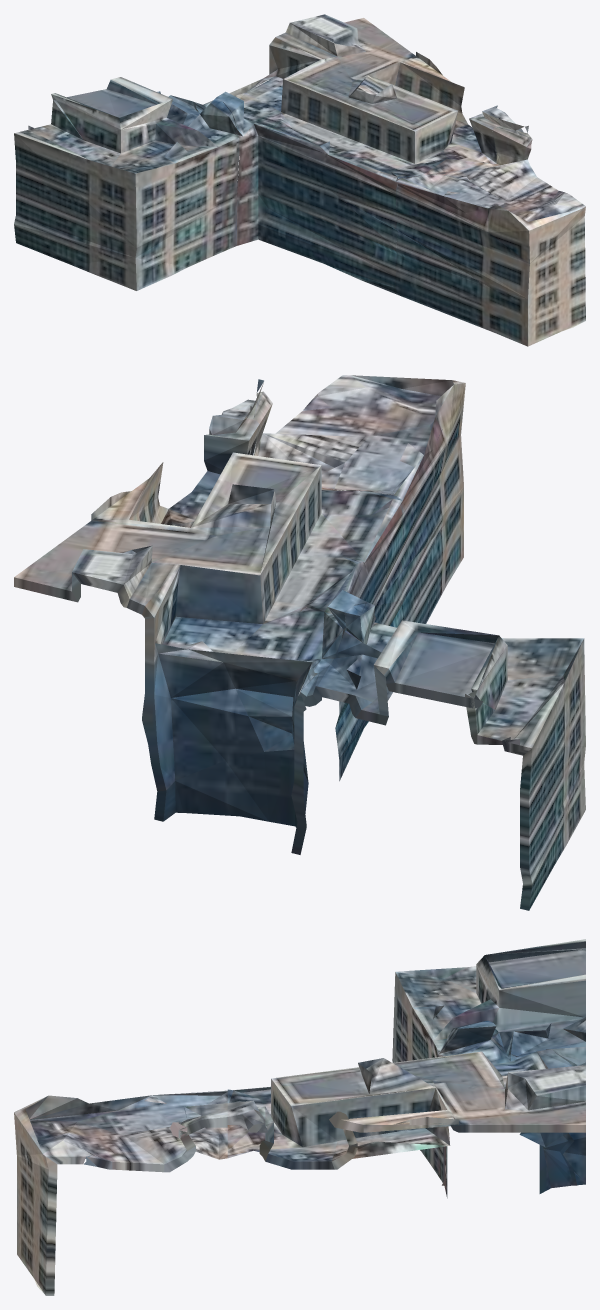
The model's file is chunk_6_-4.glb.
3 renders of one model, top to bottom at view 1: azimuth 30°, elevation 25°; view 2: azimuth 150°, elevation 25°; view 3: azimuth 270°, elevation 25°, orthographic. The views are drawn at different scales.
Parts seen in each view (by area): view 1: hero-chunk; view 2: hero-chunk; view 3: hero-chunk.
Boxes of the visible parts, x1,y1,x2,y2 form: hero-chunk: (14,14,585,346); hero-chunk: (14,375,585,910); hero-chunk: (14,939,585,1295).
Bounding box in the file's own units: 52.35 × 21.96 × 60.94.
Materials: 1 (1 with a texture image).
